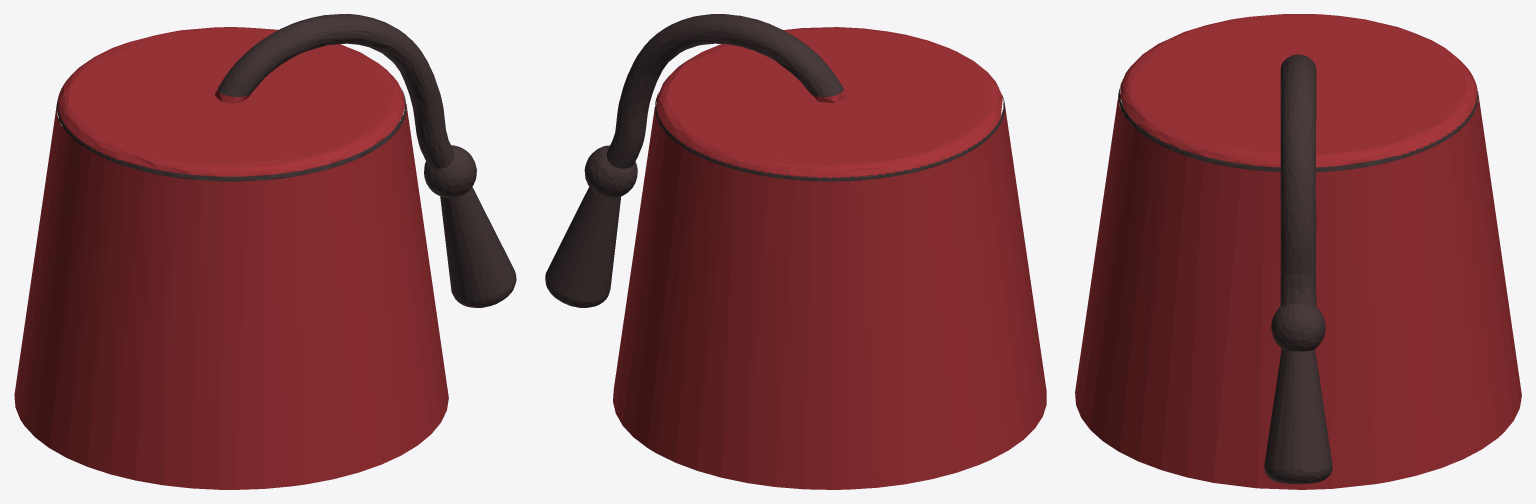
Rendered from fez.glb.
The picture shows the model from 3 angles, left to right: view 1: azimuth 30°, elevation 25°; view 2: azimuth 150°, elevation 25°; view 3: azimuth 270°, elevation 25°; orthographic projection. The views are drawn at different scales.
Visible parts, largest first — view 1: fez; view 2: fez; view 3: fez.
Part boxes in pixels (box(x1,y1,x2,y2)): fez: box(14, 14, 516, 489); fez: box(545, 14, 1046, 489); fez: box(1075, 14, 1521, 489).
Bounding box in the file's own units: 0.2302 × 0.1684 × 0.185.
